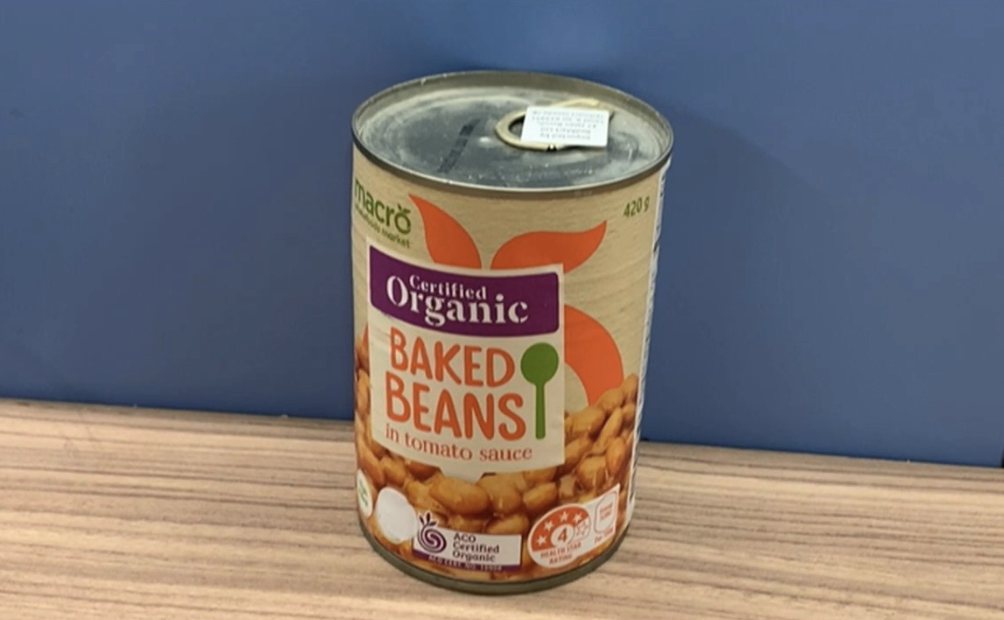Baked beans_450g: (361, 203, 606, 571)
